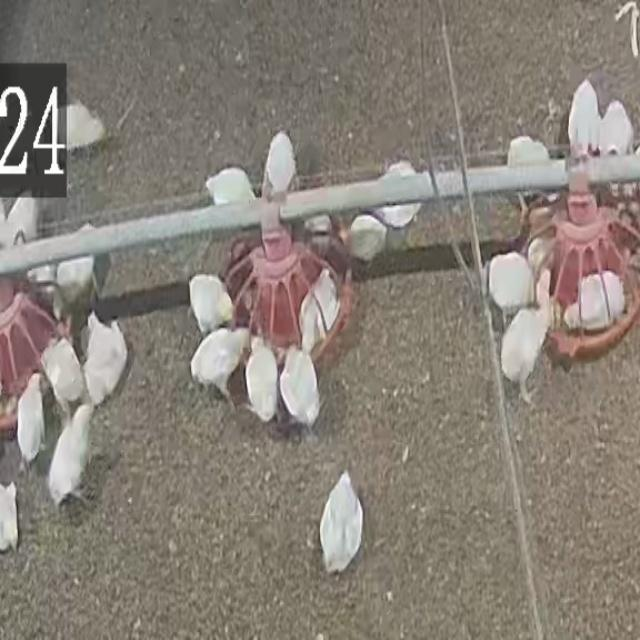chicken: (499, 300, 554, 406), (46, 402, 97, 508), (80, 310, 130, 408), (53, 228, 102, 328), (318, 471, 364, 577), (191, 319, 242, 407), (40, 333, 88, 416), (562, 270, 626, 332), (278, 343, 322, 433), (368, 161, 422, 233), (243, 337, 281, 424), (204, 163, 259, 223), (485, 251, 536, 314), (301, 268, 340, 349), (260, 130, 298, 212), (187, 273, 237, 333), (16, 370, 46, 466), (566, 79, 600, 162), (2, 193, 40, 258), (61, 101, 106, 150), (598, 100, 634, 158), (347, 214, 388, 264), (506, 136, 551, 169), (526, 235, 554, 281)
